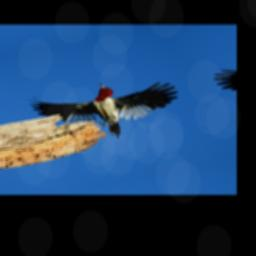Woodpecker: (24, 70, 196, 151)
